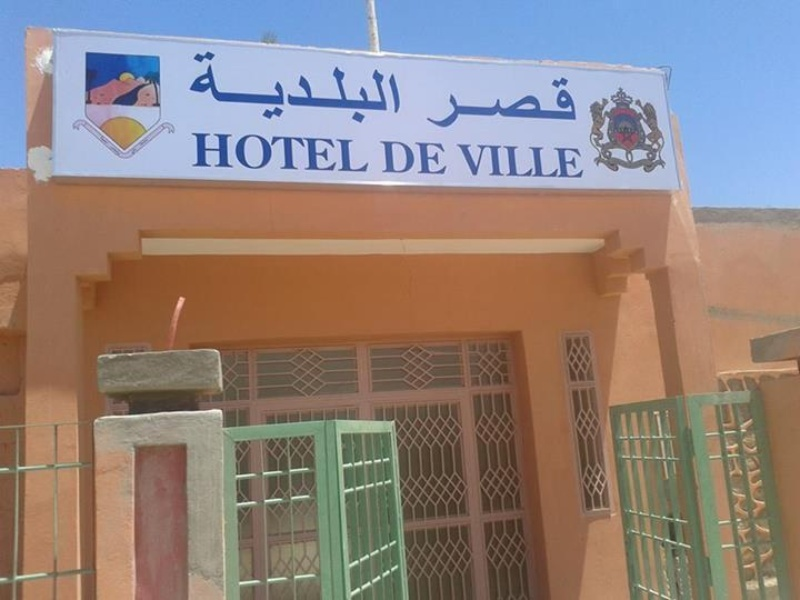text: (193, 48, 208, 127), (209, 48, 224, 127), (225, 48, 240, 127), (241, 48, 256, 127), (257, 48, 272, 127), (273, 48, 288, 127), (289, 48, 304, 127), (305, 48, 320, 127), (321, 48, 336, 127), (337, 48, 352, 127), (353, 48, 368, 127), (369, 48, 384, 127), (385, 48, 400, 127), (433, 74, 448, 135), (449, 74, 464, 135), (465, 74, 480, 135), (481, 74, 496, 135), (497, 74, 512, 135), (513, 74, 528, 135), (529, 74, 544, 135), (545, 74, 560, 135), (561, 74, 576, 135), (193, 131, 208, 174), (209, 131, 224, 174), (225, 131, 240, 174), (241, 131, 256, 174), (257, 131, 272, 174), (273, 131, 288, 174), (289, 131, 304, 174), (305, 131, 320, 174), (321, 131, 336, 174), (337, 131, 352, 174), (353, 131, 368, 174), (465, 144, 480, 181), (481, 144, 496, 181), (497, 144, 512, 181), (513, 144, 528, 181), (529, 144, 544, 181), (545, 144, 560, 181), (561, 144, 576, 181), (423, 74, 432, 135), (385, 141, 400, 175), (401, 141, 416, 175), (417, 141, 432, 175), (433, 141, 448, 175), (401, 48, 407, 127), (577, 144, 586, 181), (577, 74, 582, 135), (457, 144, 464, 181), (189, 48, 192, 127), (369, 131, 373, 174), (379, 141, 384, 175), (189, 131, 192, 174)
